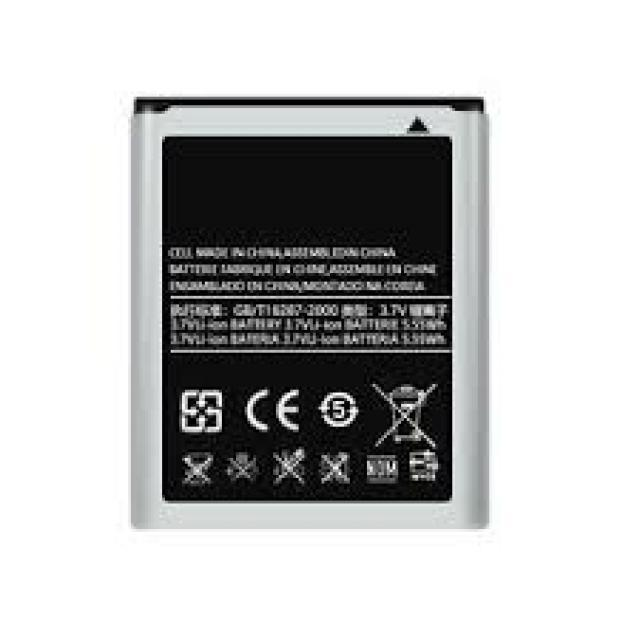battery: (124, 92, 493, 534)
